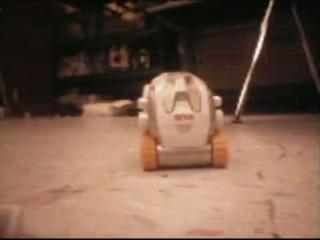cozmo: (136, 70, 230, 171)
